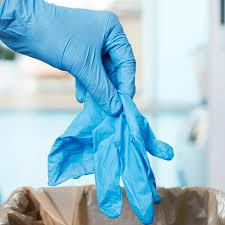Glove: (48, 91, 172, 223), (0, 0, 134, 114), (93, 91, 172, 223)
